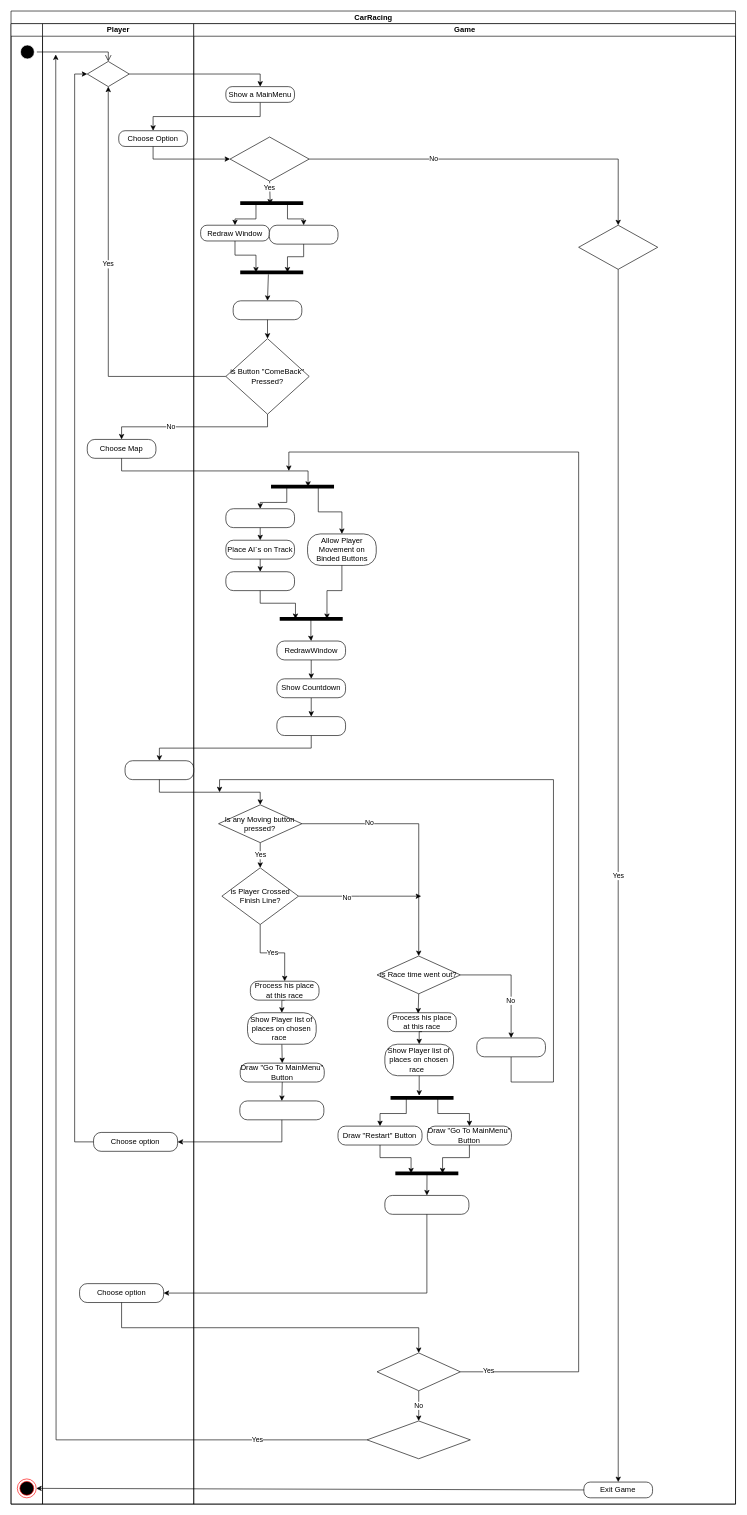
This 747x1515 diagram has some shape labels left out. The box of each missing label's shape, as (x1, y1, x2, y2) in pixels:
Decrease Time Amount: (476, 1037, 545, 1057)
Draw a "ComeBack" Button: (269, 225, 338, 244)
is "Go To MainMenu" button pressed?: (366, 1420, 470, 1459)
is "Restart" button pressed?: (376, 1352, 460, 1391)
is Button "Exit" Pressed?: (578, 225, 658, 269)
is Button "Play" Pressed?: (229, 136, 309, 181)
LoadMap: (225, 508, 295, 528)
Place Player on Track: (225, 571, 295, 591)
Press any Button for Moving: (124, 760, 194, 780)
Show "Losing Menu": (384, 1195, 469, 1214)
Show "Wining Menu": (239, 1100, 324, 1120)
Show Menu To Chose a Map: (233, 300, 302, 320)
Start a Race: (276, 716, 346, 736)
